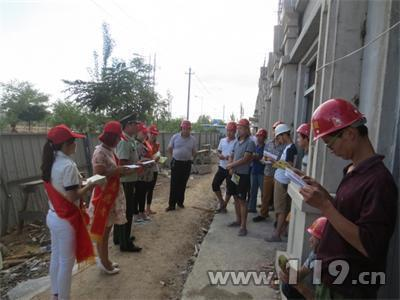helmet: (313, 100, 367, 142), (48, 125, 74, 144), (104, 121, 124, 137), (138, 122, 151, 140), (298, 123, 310, 137), (276, 125, 290, 137), (256, 128, 270, 139), (239, 120, 250, 133), (227, 121, 238, 134), (148, 125, 159, 136), (182, 120, 192, 131)
